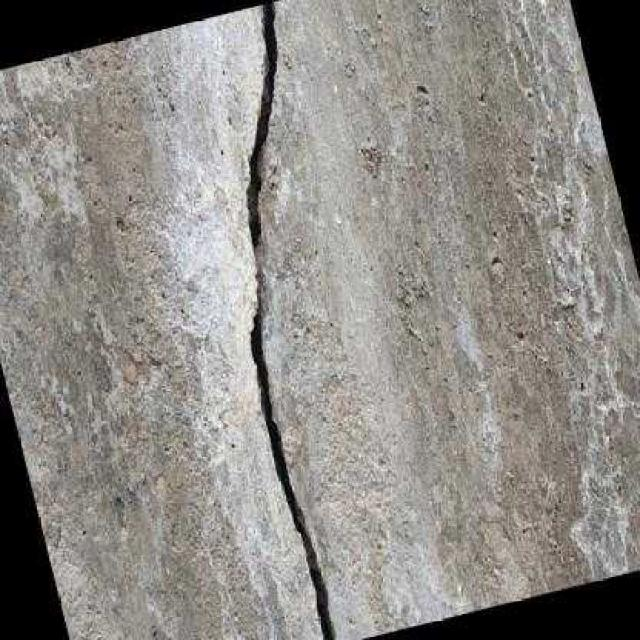D00: (246, 2, 335, 640)
